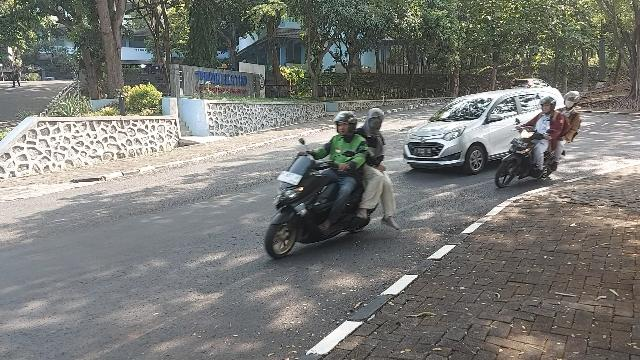helm: (334, 112, 358, 136), (540, 98, 557, 114), (564, 92, 580, 109)
motor: (266, 139, 371, 261), (496, 120, 566, 189)
non-helm: (369, 109, 384, 131)
